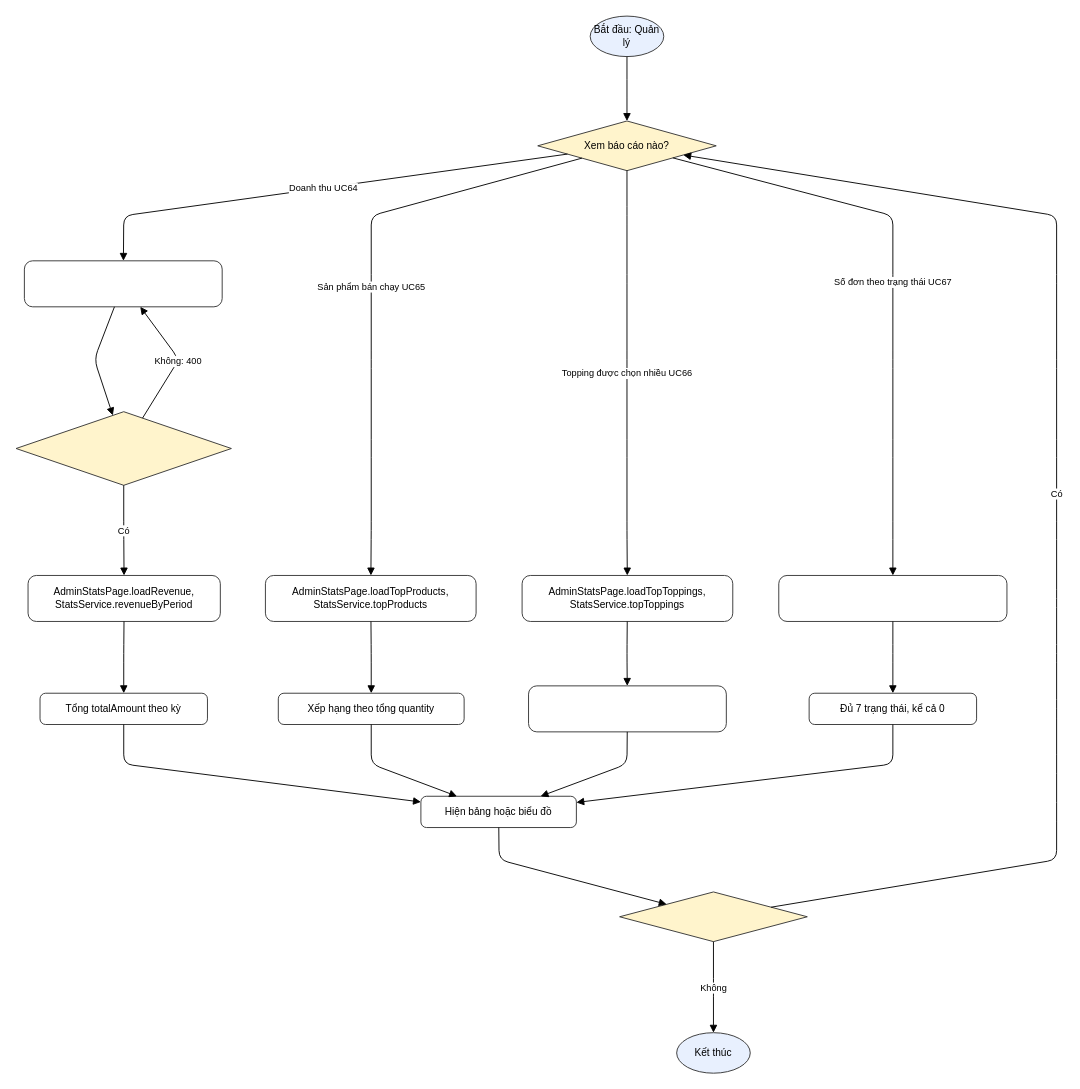
Some shapes in this 1080 by 1089 pixel diagram are drawn without their labels. Here are the shapes that lost their labels. From the top down, the box of each, then its label:
(23, 260, 222, 307): Chọn from, to, nhóm theo ngày hoặc tháng
(15, 411, 231, 485): Khoảng thời gian hợp lệ?
(778, 575, 1007, 621): AdminStatsPage.loadOrdersByStatus, StatsService.countByStatus
(528, 685, 726, 732): Xếp hạng theo tổng số phần đã chọn
(619, 891, 807, 942): Xem báo cáo khác?
